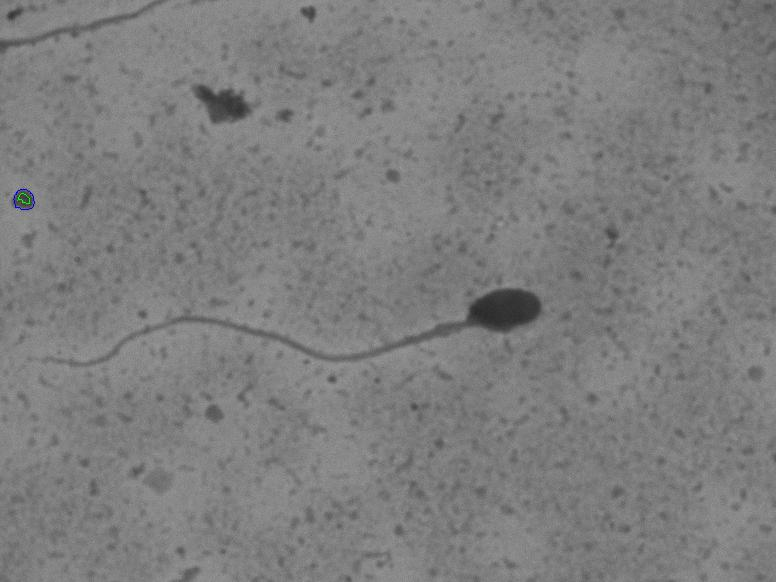Abnormal: (32, 259, 573, 412)
